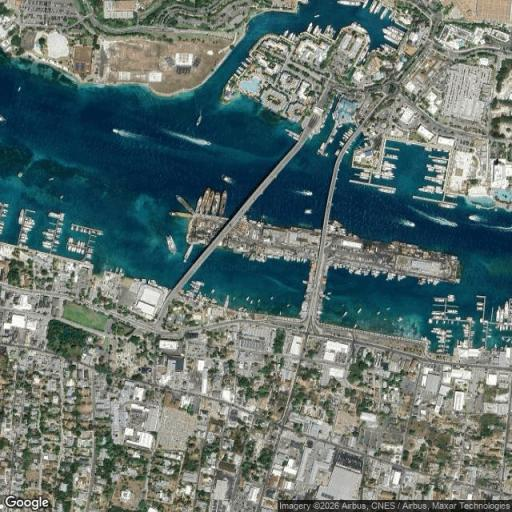ship: (176, 195, 195, 213), (199, 188, 210, 213), (166, 235, 177, 255), (206, 190, 214, 216), (184, 243, 194, 262), (212, 191, 219, 216), (221, 191, 227, 217), (196, 196, 202, 215)
